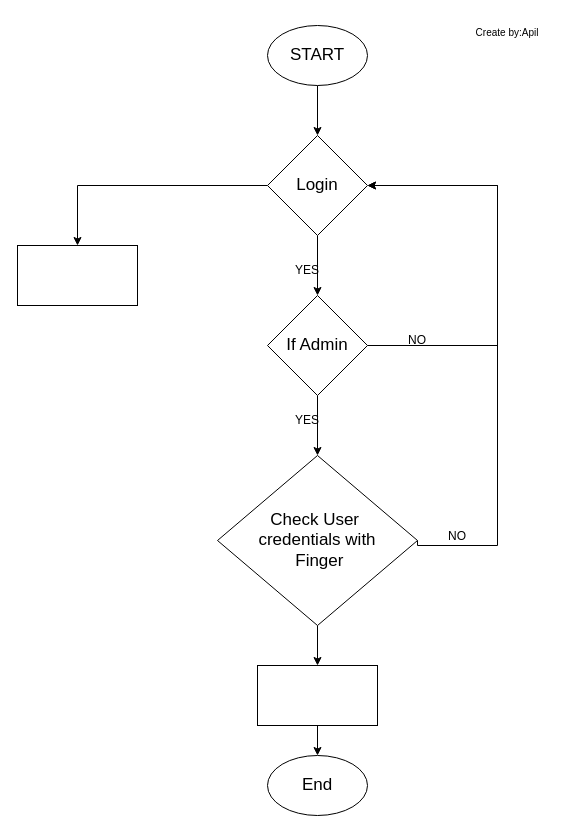
Image size: 575x833. Some labels were removed from this diagram. The centre of each missing label's shape, as x and y in pixels:
Admin Dashboard: the point at 317,695
Register: the point at 77,275
